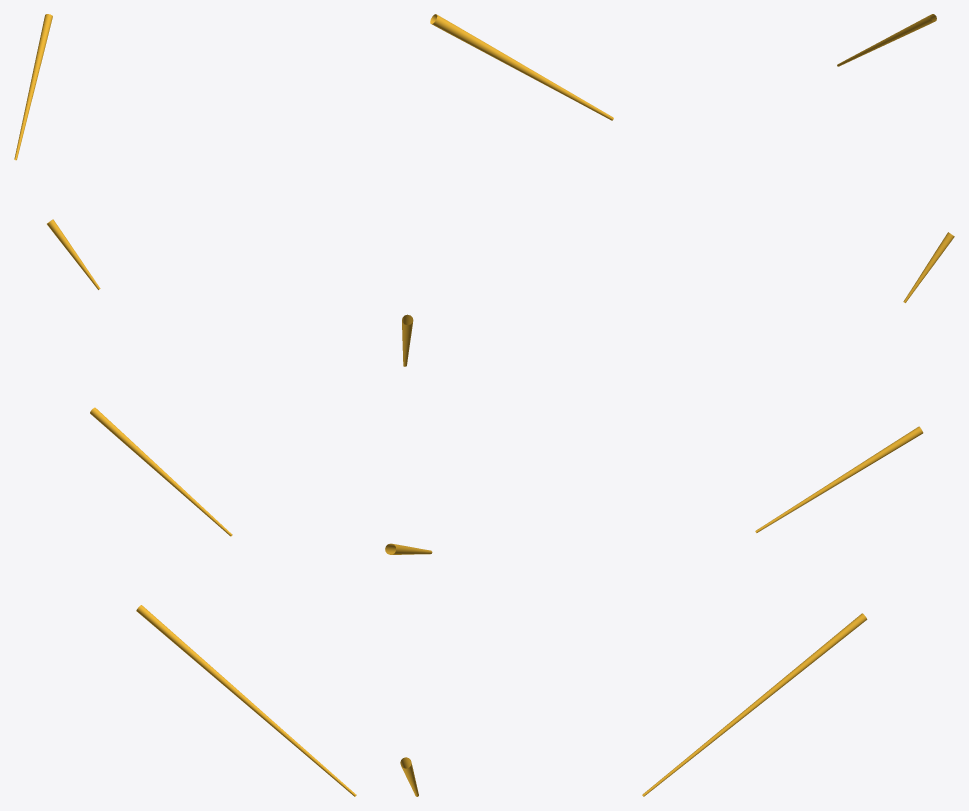
Rendered from nervoso-muscular-branches-of-median-nerve-r.glb.
3 views of the same model, side by side, from view 1: azimuth 30°, elevation 25°; view 2: azimuth 150°, elevation 25°; view 3: azimuth 270°, elevation 25° (orthographic). The views are drawn at different scales.
Parts seen in each view (by area): view 1: Muscular branches of median nerve.r; view 2: Muscular branches of median nerve.r; view 3: Muscular branches of median nerve.r.
Boxes of the visible parts, x1=… form: Muscular branches of median nerve.r: x1=14, y1=14, x2=356, y2=796; Muscular branches of median nerve.r: x1=385, y1=14, x2=613, y2=796; Muscular branches of median nerve.r: x1=642, y1=14, x2=954, y2=796.
Bounding box in the file's own units: 0.0203 × 0.0569 × 0.0229.
